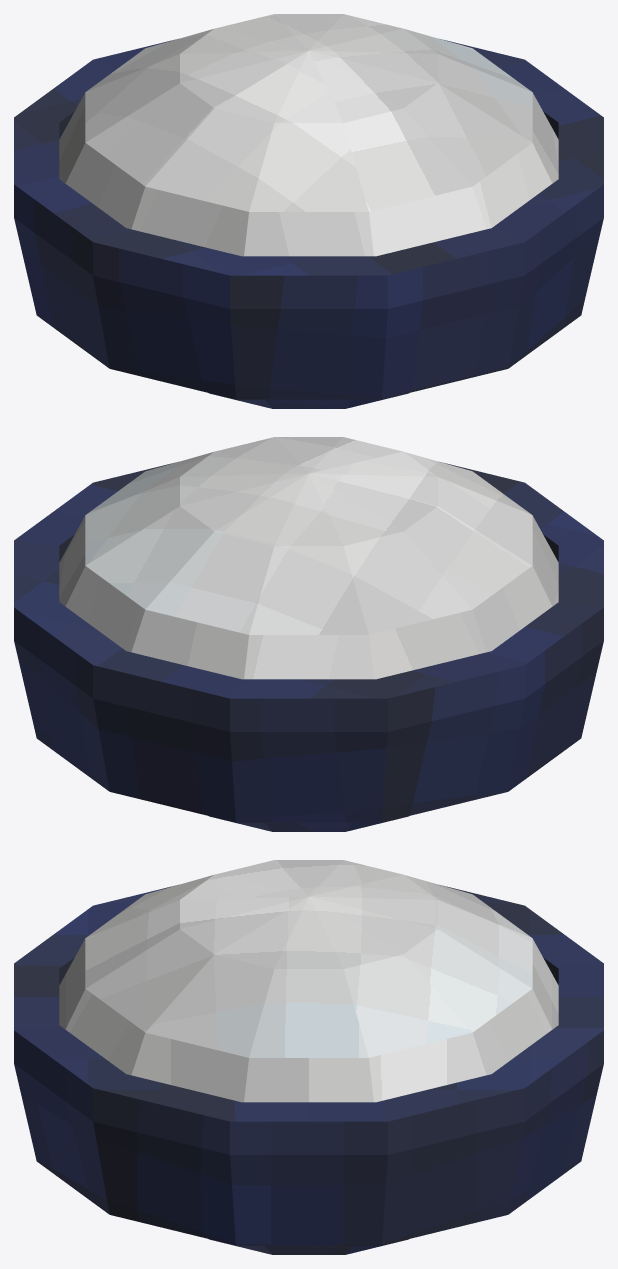
Rendered from rice.fbx.
3 renders of one model, top to bottom at view 1: azimuth 30°, elevation 25°; view 2: azimuth 150°, elevation 25°; view 3: azimuth 270°, elevation 25°, orthographic.
Parts seen in each view (by area): view 1: misko, rice; view 2: misko, rice; view 3: misko, rice.
Boxes of the visible parts, x1,y1,x2,y2 form: misko: (14, 39, 603, 408); rice: (59, 14, 558, 256); misko: (14, 462, 603, 831); rice: (59, 437, 558, 679); misko: (14, 885, 603, 1254); rice: (59, 860, 558, 1102).
Size of the model in its own units: 50 by 28.12 by 50.
Materials: 2 (2 with a texture image).
